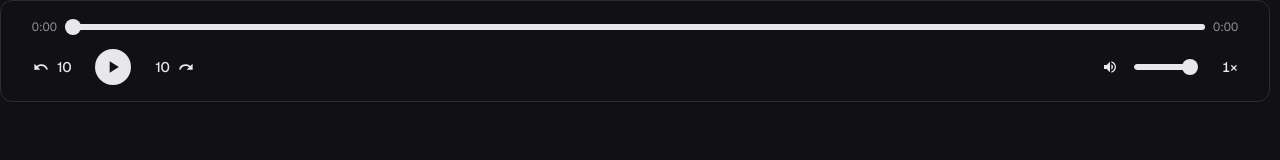
Test: AudioPlayer › mute button toggles aria-label
Click the button named "Mute" at [1110, 67], box [1092,49,1128,85]
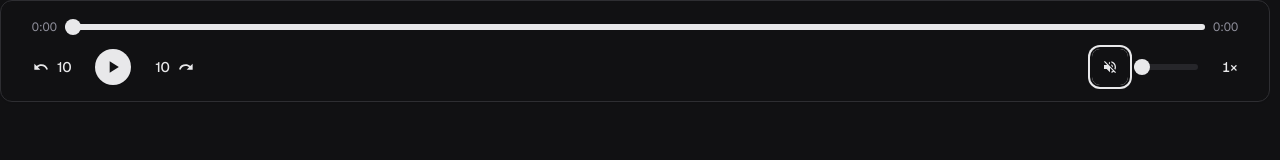
Check: the button named "Unmute" is shown, box [1092,49,1128,85]
